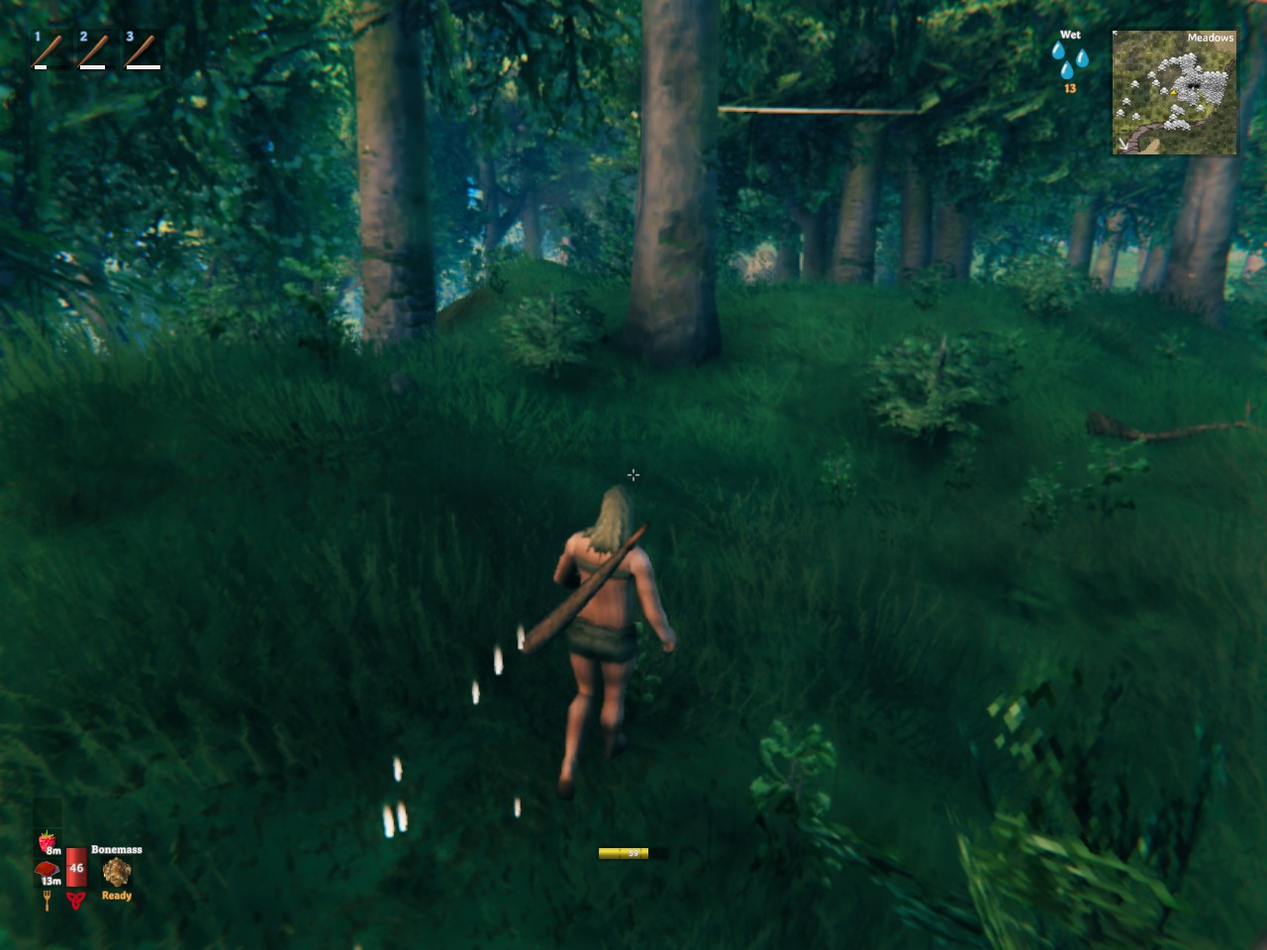Branch: (1086, 403, 1260, 441)
Food Indicator: (36, 797, 63, 891)
Health Bar: (63, 820, 90, 891)
Hotbar: (24, 21, 195, 80)
Stamina Bar: (595, 840, 672, 866)
Status Indicator: (1028, 24, 1109, 99)
Stone: (384, 373, 418, 394)
